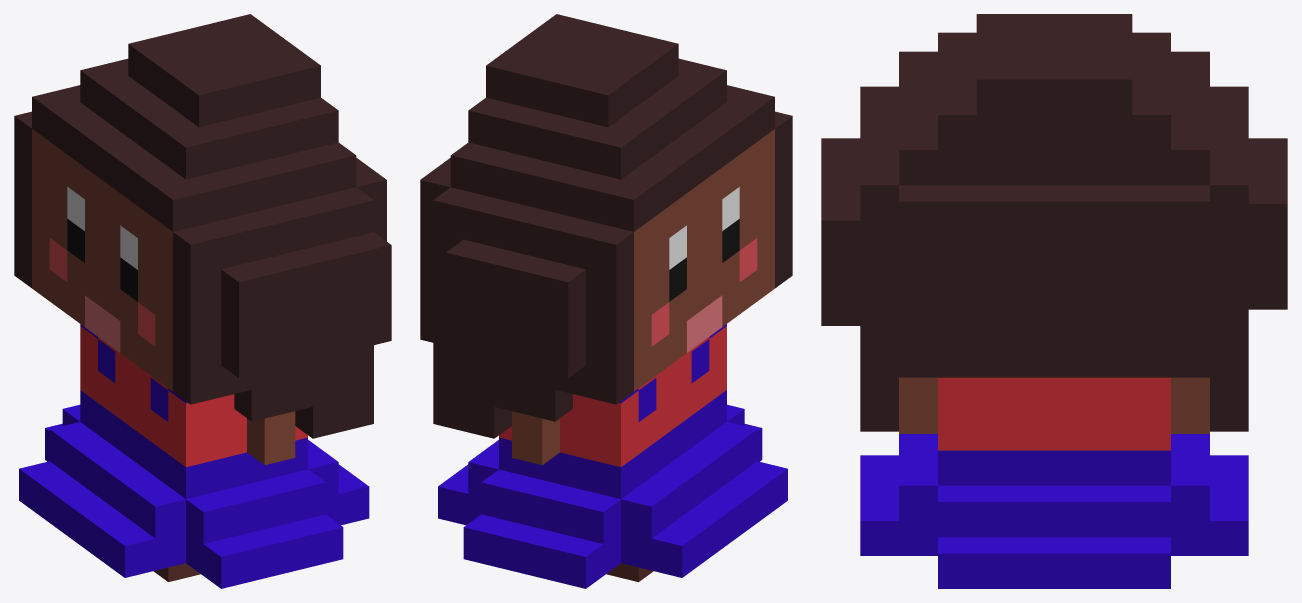
Rendered from Char04.obj.
3 renders of one model, left to right at view 1: azimuth 30°, elevation 25°; view 2: azimuth 150°, elevation 25°; view 3: azimuth 270°, elevation 25°, orthographic. The views are drawn at different scales.
Bounding box in the file's own units: 0.8 × 1.5 × 1.2.
Materials: 1 (1 with a texture image).
